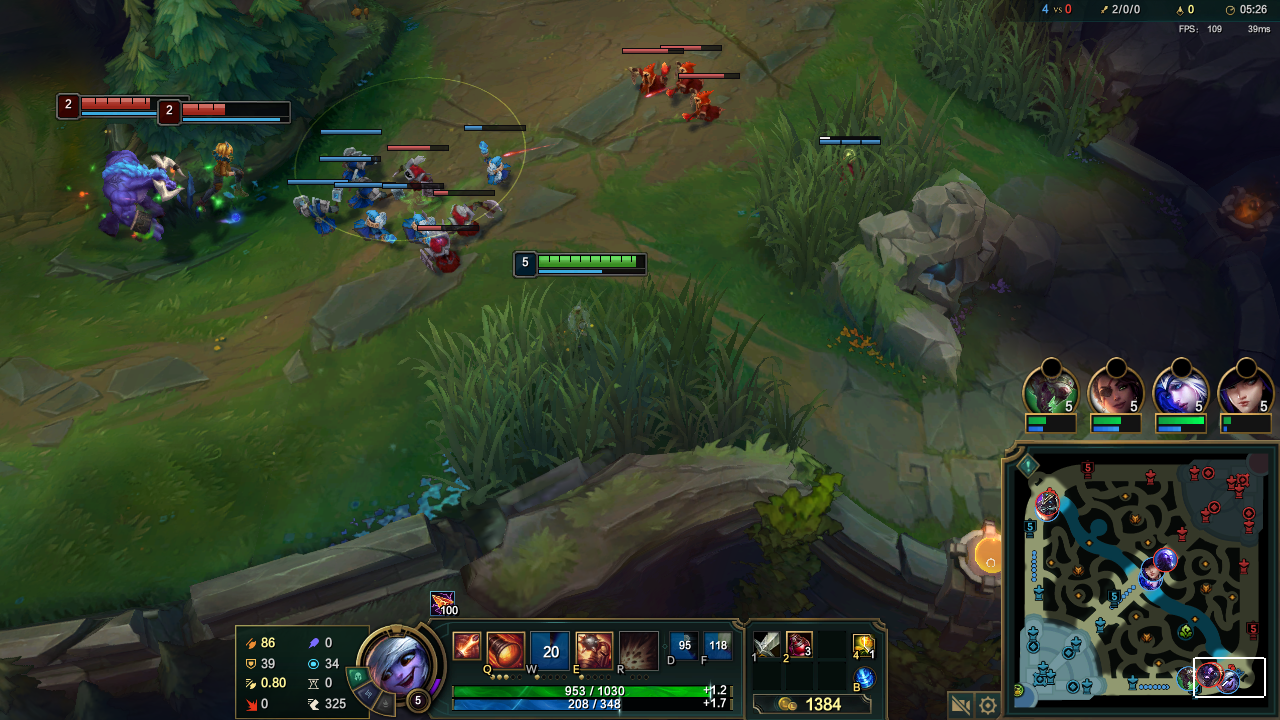DFXB: (419, 229, 473, 285), (439, 197, 497, 243), (677, 84, 728, 131), (393, 151, 444, 195), (627, 53, 673, 101), (660, 48, 697, 98)
DFYX: (178, 100, 281, 124), (77, 96, 154, 116)
WFXB: (288, 190, 349, 245), (350, 201, 400, 252), (470, 137, 520, 185), (343, 174, 389, 214), (397, 209, 440, 251), (338, 143, 379, 180)
